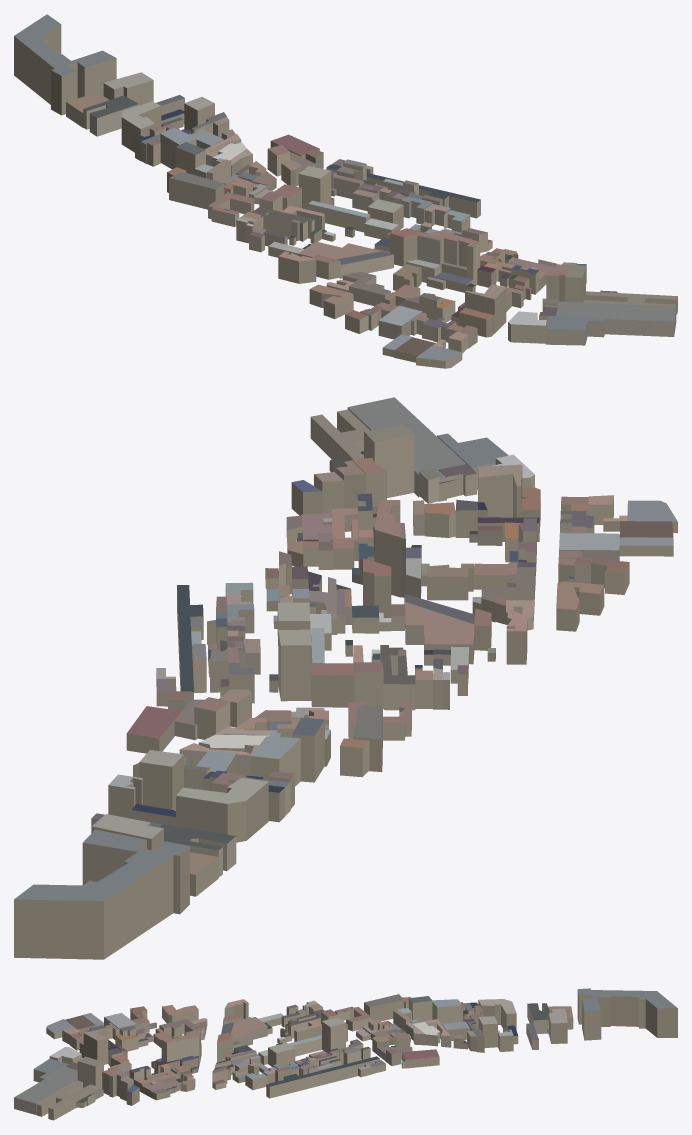
3 renders of one model, top to bottom at view 1: azimuth 30°, elevation 25°; view 2: azimuth 150°, elevation 25°; view 3: azimuth 270°, elevation 25°, orthographic. The views are drawn at different scales.
Visible parts, largest first — view 1: tuile; view 2: tuile; view 3: tuile.
Part boxes in pixels (x1,y1,x2,y2): tuile: (14,14,677,368); tuile: (14,397,677,959); tuile: (14,988,677,1120).
Size of the model in its own units: 193 by 29.83 by 531.
